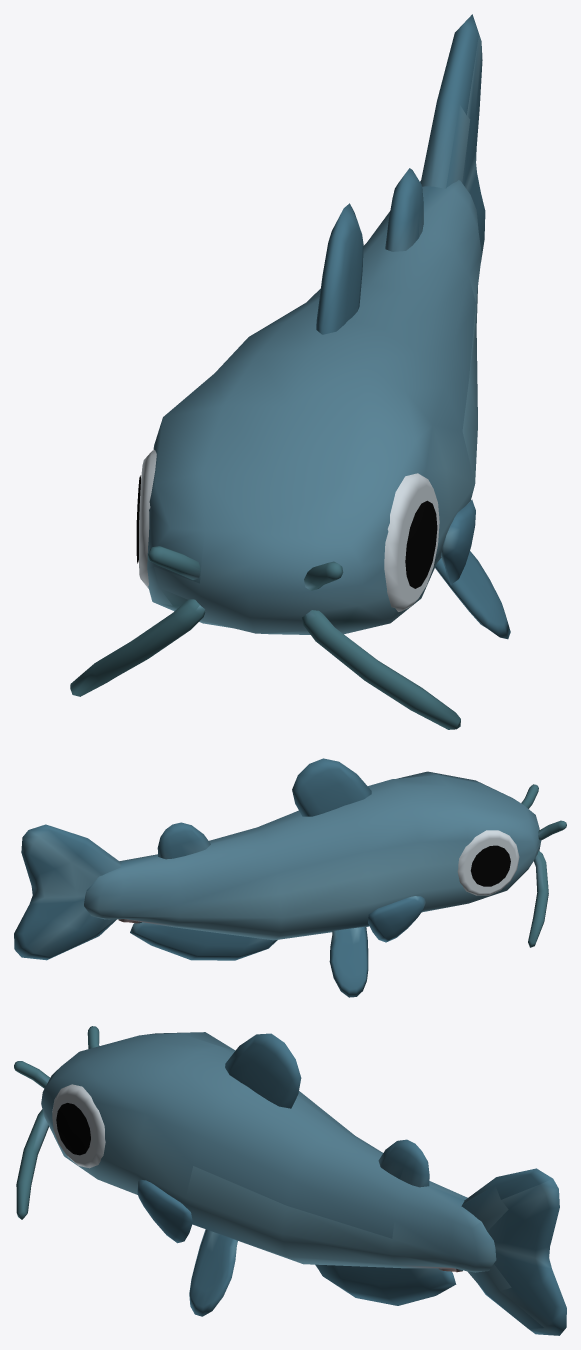
Rendered from Catfish.glb.
The picture shows the model from 3 angles, top to bottom: view 1: azimuth 30°, elevation 25°; view 2: azimuth 150°, elevation 25°; view 3: azimuth 270°, elevation 25°; orthographic projection. The views are drawn at different scales.
Parts seen in each view (by area): view 1: 23; view 2: 23; view 3: 23.
Part boxes in pixels (left/top/right/bottom): 23: left=70, top=14, right=510, bottom=729; 23: left=14, top=758, right=566, bottom=997; 23: left=14, top=1026, right=566, bottom=1335.
Bounding box in the file's own units: 0.7754 × 0.4185 × 0.8368.
